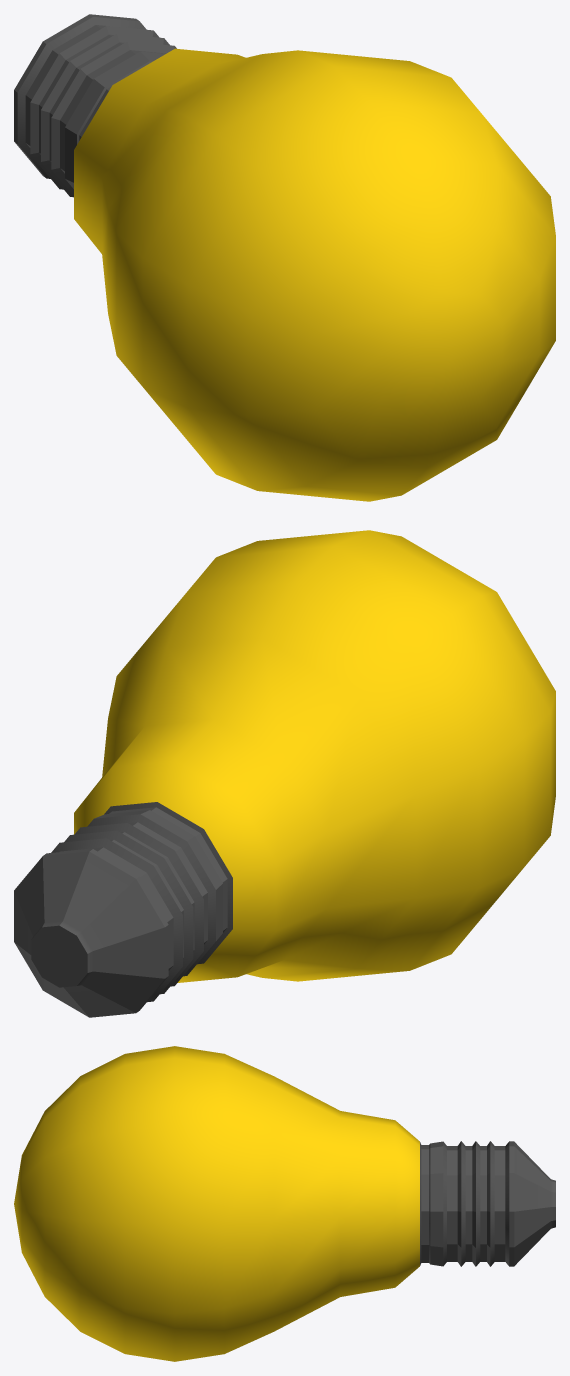
File: LightBulb_01.obj
3 views of the same model, one above another, from view 1: azimuth 30°, elevation 25°; view 2: azimuth 150°, elevation 25°; view 3: azimuth 270°, elevation 25° (orthographic). The views are drawn at different scales.
Parts seen in each view (by area): view 1: pSphere39; view 2: pSphere39; view 3: pSphere39.
Boxes of the visible parts, x1,y1,x2,y2 form: pSphere39: [14, 14, 555, 501]; pSphere39: [14, 530, 555, 1017]; pSphere39: [14, 1046, 555, 1361].
Bounding box in the file's own units: 161 × 170 × 286.
